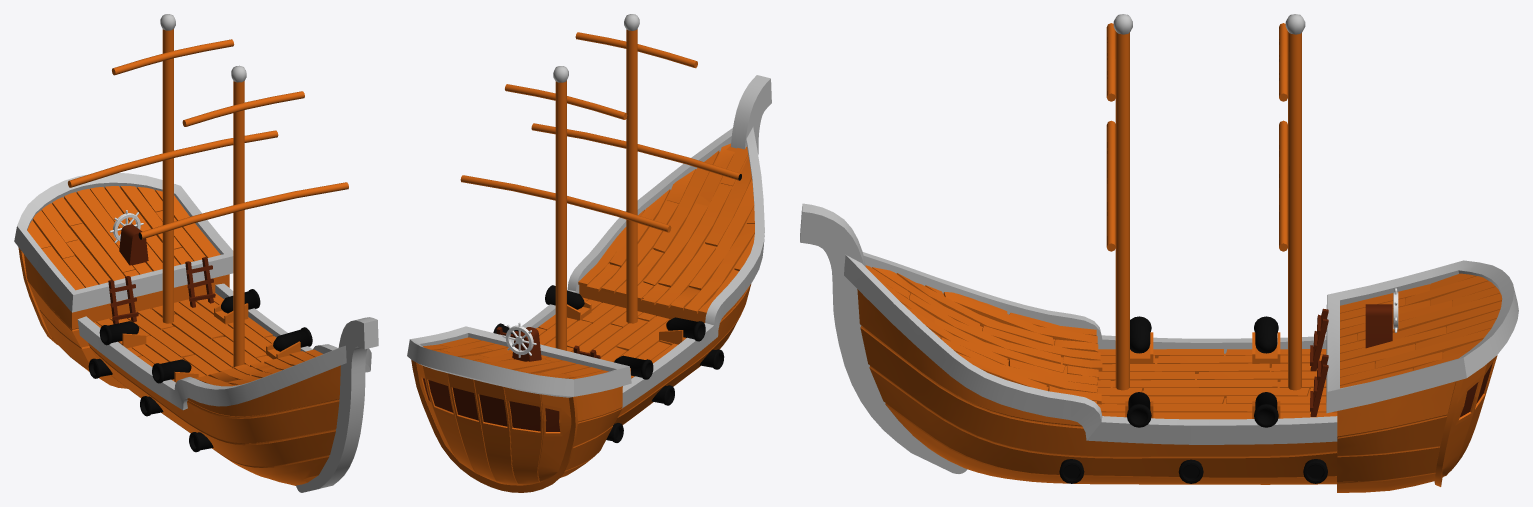
Rendered from Boatface.FBX.
3 views of the same model, side by side, from view 1: azimuth 30°, elevation 25°; view 2: azimuth 150°, elevation 25°; view 3: azimuth 270°, elevation 25° (orthographic). The views are drawn at different scales.
Parts seen in each view (by area): view 1: Boatface_Base; view 2: Boatface_Base, Cylinder015; view 3: Boatface_Base.
Part boxes in pixels (box(x1,y1,x2,y2)): Boatface_Base: box(14, 14, 378, 492); Boatface_Base: box(407, 14, 771, 492); Cylinder015: box(502, 322, 536, 357); Boatface_Base: box(800, 14, 1518, 492).
Bounding box in the file's own units: 4575 × 8143 × 11329.
